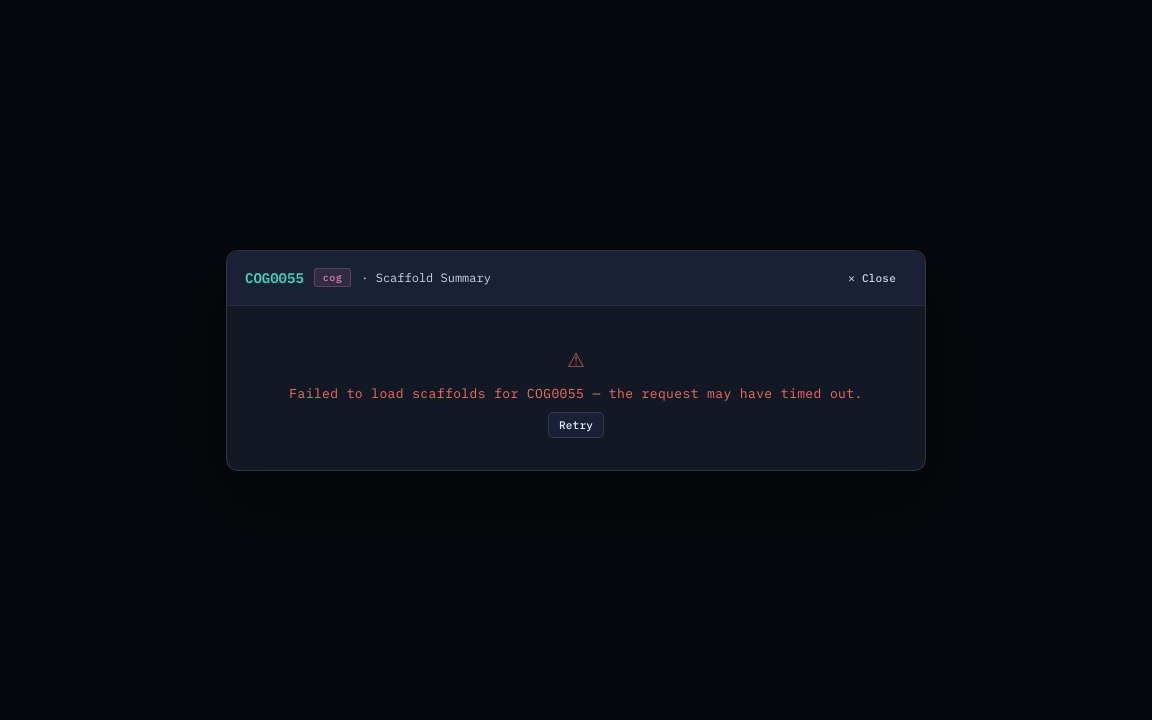
Test case: ScaffoldModal — loading / error / empty states › clicking retry re-fetches and shows data on success
Click the button with test id "retry-btn": click(576, 424) [548,412,604,438]
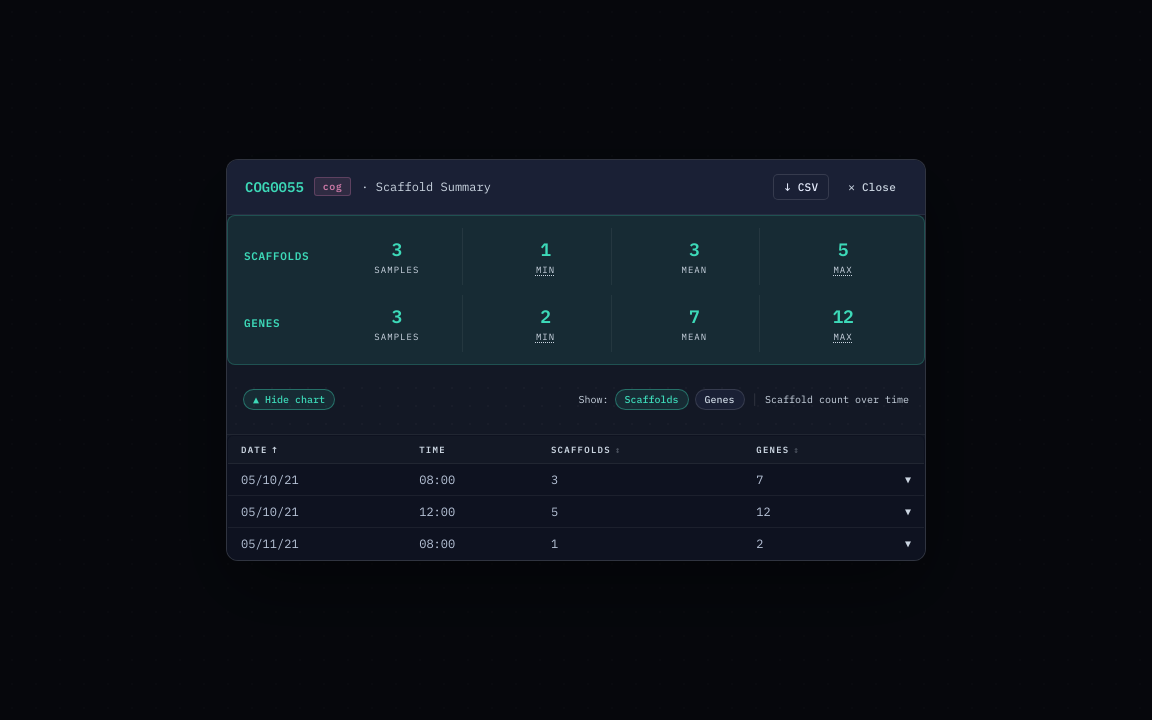
Expected: the table with test id "summary-table" is shown, [227,435,925,560]
